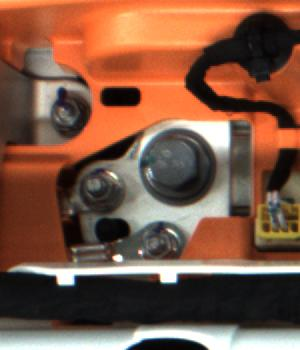nut_b: (136, 123, 217, 207)
